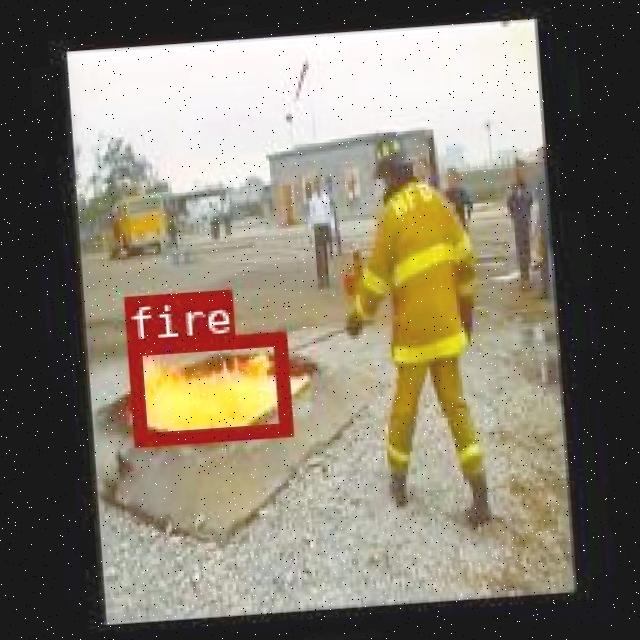fire: (125, 328, 290, 443)
